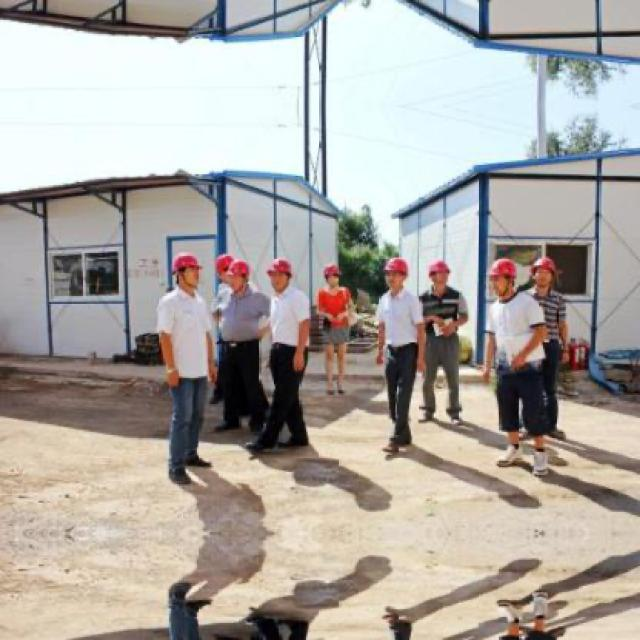con casco: (155, 245, 224, 300), (368, 253, 435, 306), (423, 245, 485, 301), (483, 238, 528, 304), (514, 238, 557, 292), (266, 243, 306, 296), (208, 249, 252, 291), (309, 257, 349, 295)
